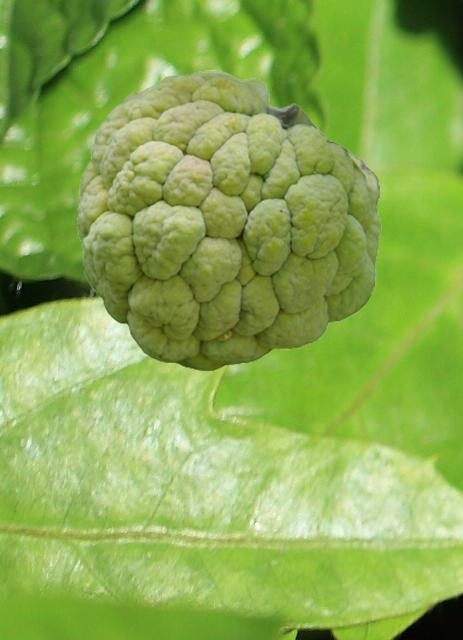atis: (77, 70, 380, 370)
